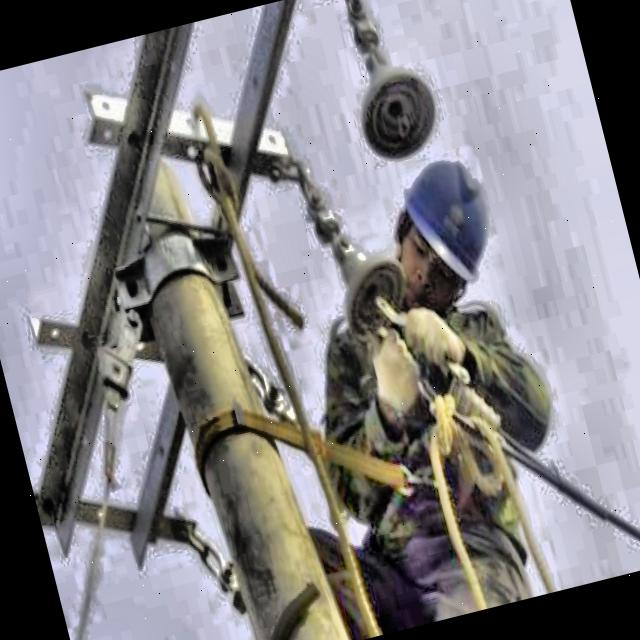helmet: (362, 136, 514, 324)
